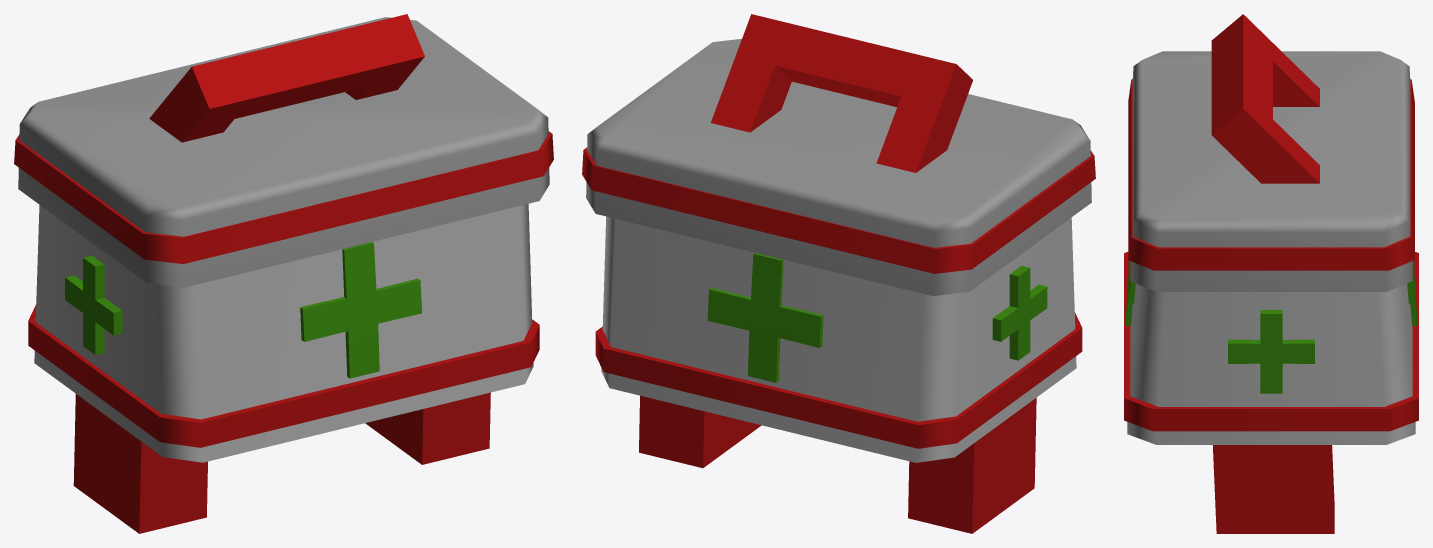
Rendered from hat_medbox.glb.
The picture shows the model from 3 angles, left to right: view 1: azimuth 30°, elevation 25°; view 2: azimuth 150°, elevation 25°; view 3: azimuth 270°, elevation 25°; orthographic projection. The views are drawn at different scales.
Visible parts, largest first — view 1: hat_medbox; view 2: hat_medbox; view 3: hat_medbox.
Boxes of the visible parts, <box> form: hat_medbox: <box>14,14,553,533</box>; hat_medbox: <box>582,14,1095,533</box>; hat_medbox: <box>1124,14,1418,533</box>.
Size of the model in its own units: 0.3146 by 0.3231 by 0.2181.
